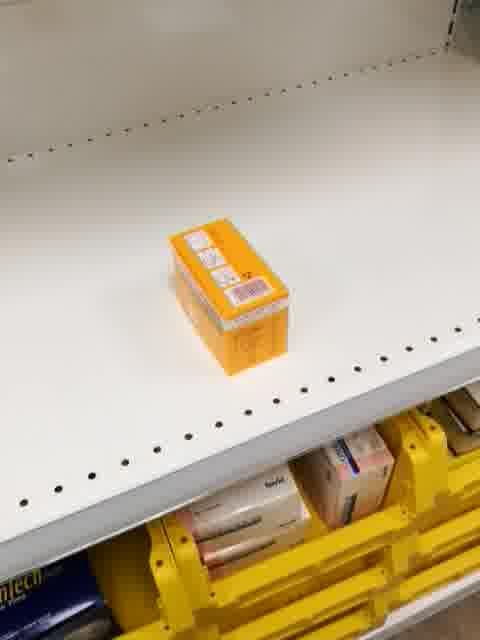jasminetea: (170, 218, 291, 377)
